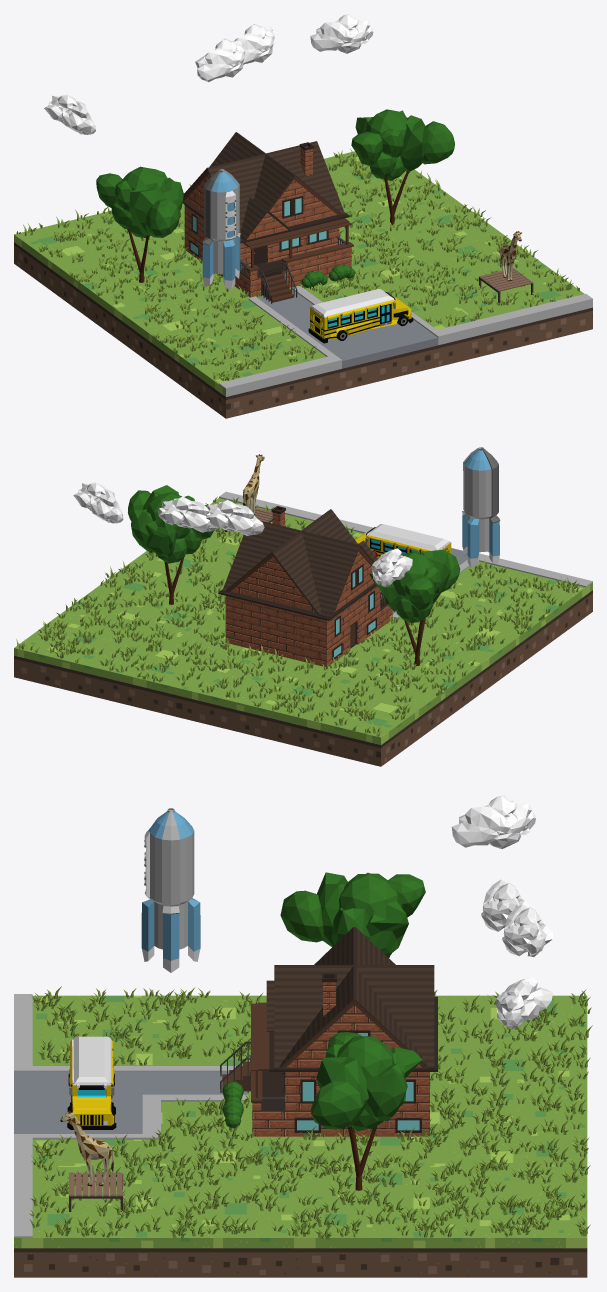
3 renders of one model, top to bottom at view 1: azimuth 30°, elevation 25°; view 2: azimuth 150°, elevation 25°; view 3: azimuth 270°, elevation 25°, orthographic. The views are drawn at different scales.
Visible parts, largest first — view 1: Cube.006, Circle.012_Grass_0.192, Cube.469, Cube.007, tree, tree.001, OBJRANDOM_ROCKETSHIP, VEHICLES_SCHOOL_BUS, Cube.009, ANIMAL_JIRAFA; view 2: Cube.006, Cube.469, Circle.012_Grass_0.192, Cube.007, OBJRANDOM_ROCKETSHIP, tree.001, tree, VEHICLES_SCHOOL_BUS, ANIMAL_JIRAFA; view 3: Cube.006, Circle.012_Grass_0.192, Cube.469, tree, Cube.007, tree.001, OBJRANDOM_ROCKETSHIP, VEHICLES_SCHOOL_BUS, Cube.009, ANIMAL_JIRAFA.
Boxes of the visible parts, bbox=[...] form: Cube.006: bbox=[14, 151, 592, 418]; Circle.012_Grass_0.192: bbox=[16, 148, 579, 381]; Cube.469: bbox=[182, 132, 353, 303]; Cube.007: bbox=[44, 14, 373, 134]; tree: bbox=[351, 109, 454, 225]; tree.001: bbox=[96, 166, 183, 282]; OBJRANDOM_ROCKETSHIP: bbox=[202, 169, 240, 289]; VEHICLES_SCHOOL_BUS: bbox=[308, 289, 413, 343]; Cube.009: bbox=[479, 268, 533, 302]; ANIMAL_JIRAFA: bbox=[500, 231, 521, 281]; Cube.006: bbox=[14, 491, 592, 766]; Cube.469: bbox=[218, 506, 392, 666]; Circle.012_Grass_0.192: bbox=[16, 497, 579, 736]; Cube.007: bbox=[73, 482, 412, 587]; OBJRANDOM_ROCKETSHIP: bbox=[462, 447, 500, 567]; tree.001: bbox=[369, 549, 460, 665]; tree: bbox=[128, 485, 213, 604]; VEHICLES_SCHOOL_BUS: bbox=[355, 524, 451, 558]; ANIMAL_JIRAFA: bbox=[243, 454, 264, 514]; Cube.006: bbox=[14, 994, 587, 1277]; Circle.012_Grass_0.192: bbox=[29, 986, 592, 1239]; Cube.469: bbox=[220, 927, 437, 1136]; tree: bbox=[310, 1032, 422, 1190]; Cube.007: bbox=[451, 795, 552, 1029]; tree.001: bbox=[280, 872, 425, 957]; OBJRANDOM_ROCKETSHIP: bbox=[141, 808, 200, 972]; VEHICLES_SCHOOL_BUS: bbox=[67, 1036, 116, 1129]; Cube.009: bbox=[69, 1172, 122, 1211]; ANIMAL_JIRAFA: bbox=[60, 1110, 113, 1186].
Bounding box in the file's own units: 4071 × 2198 × 4040.
Materials: 40 (5 with a texture image).
